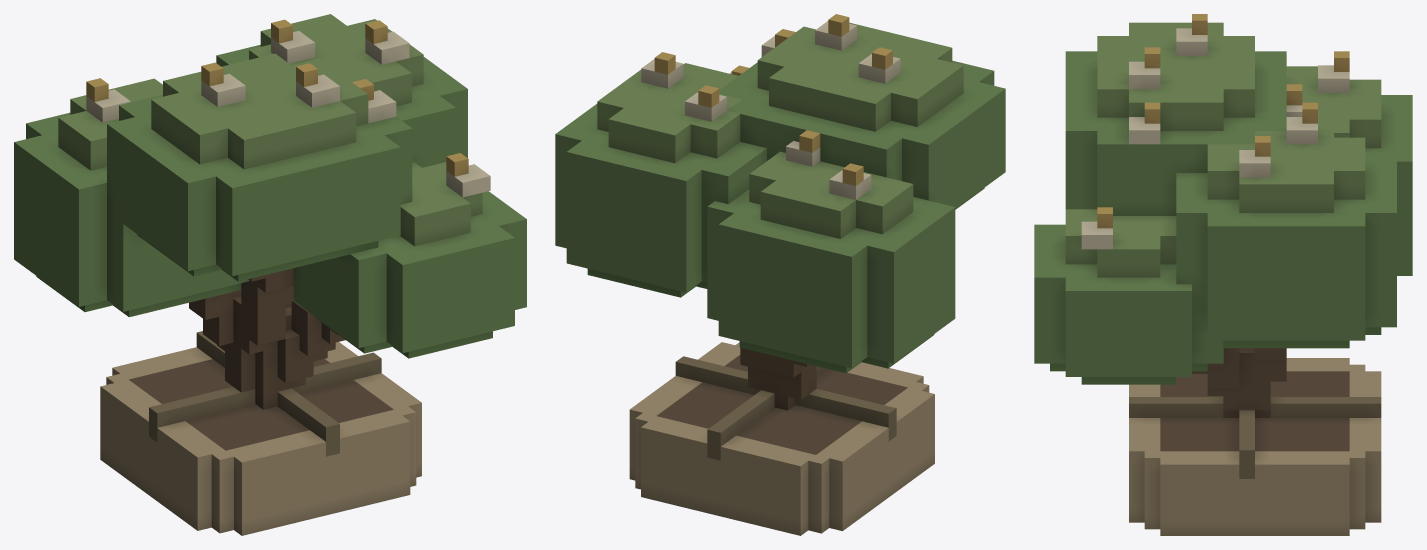
The model's file is blueberry_packed_spring.glb.
3 views of the same model, side by side, from view 1: azimuth 30°, elevation 25°; view 2: azimuth 150°, elevation 25°; view 3: azimuth 270°, elevation 25° (orthographic). The views are drawn at different scales.
Visible parts, largest first — view 1: VoxelVisual; view 2: VoxelVisual; view 3: VoxelVisual.
Part boxes in pixels (bbox=[...]): VoxelVisual: bbox=[14, 14, 526, 535]; VoxelVisual: bbox=[555, 14, 1005, 535]; VoxelVisual: bbox=[1034, 14, 1412, 535].
Size of what is drawn, in the model's own units: 1.62 by 1.88 by 1.5.
